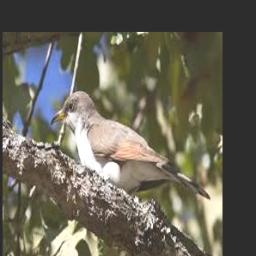Cuckoo: (50, 90, 210, 201)
